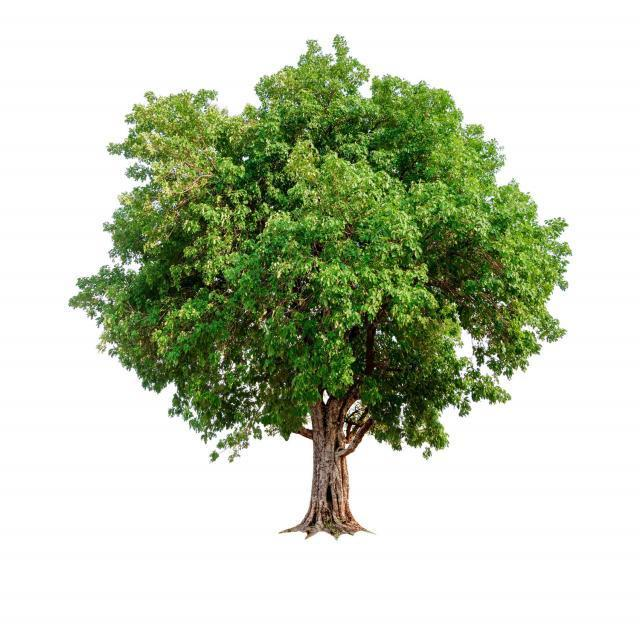tree: (70, 31, 574, 537)
